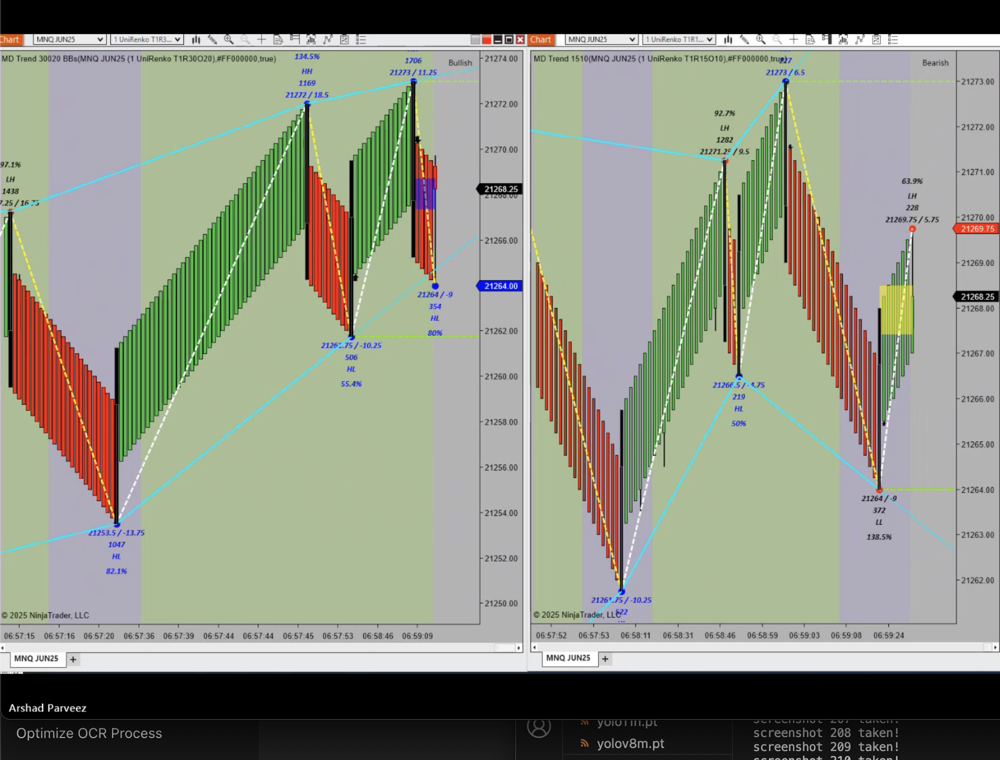HH: (299, 62, 321, 82)
HL: (102, 546, 131, 566), (727, 399, 749, 418), (341, 362, 363, 378), (424, 310, 444, 327)
LH: (902, 187, 923, 206), (1, 171, 22, 189), (715, 120, 740, 135)
LL: (869, 512, 893, 531)
